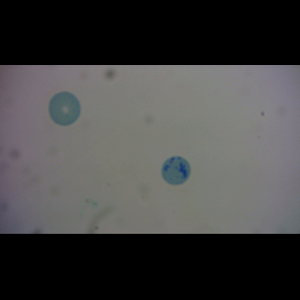aggregate reticulocyte: (160, 155, 192, 186)
punctate reticulocyte: (48, 91, 82, 127)
